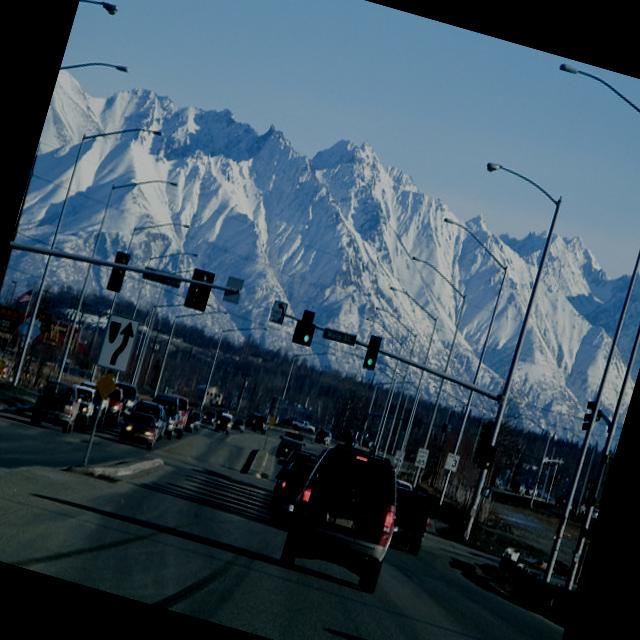Vehicle: (270, 436, 417, 596), (378, 480, 440, 559), (262, 453, 316, 534), (28, 378, 86, 439), (29, 377, 83, 436), (116, 408, 164, 453), (143, 390, 186, 440), (59, 382, 100, 434), (126, 398, 168, 440), (273, 428, 307, 462), (102, 385, 127, 429), (212, 412, 235, 436), (214, 406, 234, 431), (290, 417, 317, 435), (200, 408, 218, 428), (188, 410, 204, 431), (183, 414, 197, 434), (232, 417, 246, 432), (554, 494, 567, 507)
